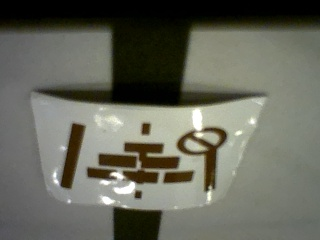Clearing_Zone: (61, 121, 228, 202)
